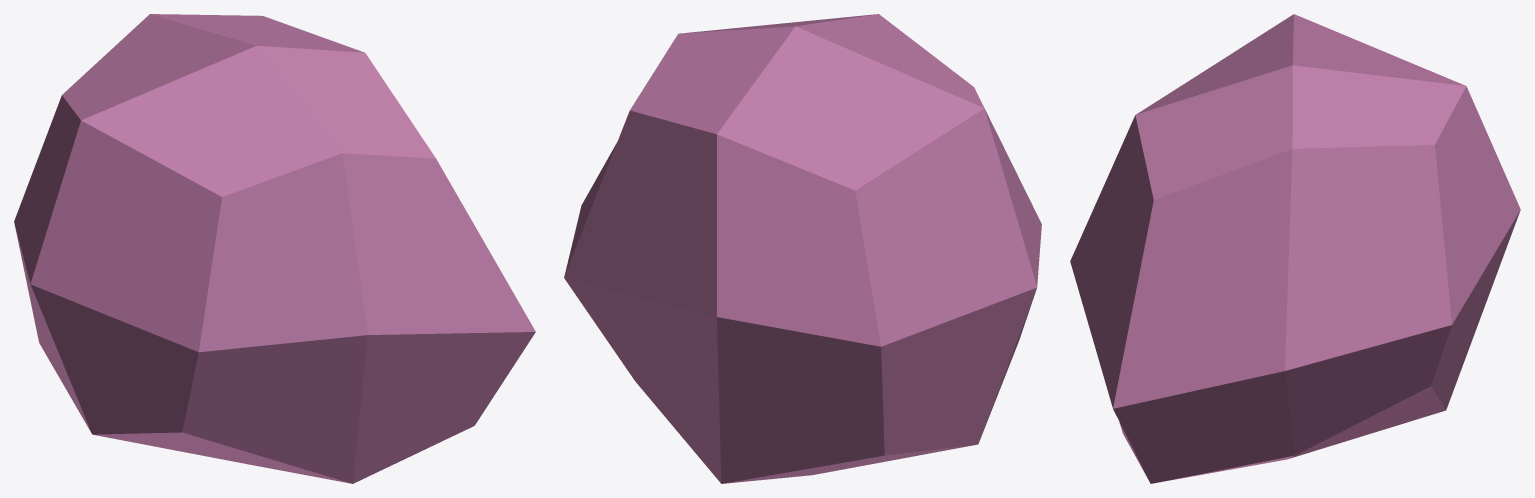
Rendered from tas_kucuk.fbx.
The picture shows the model from 3 angles, left to right: view 1: azimuth 30°, elevation 25°; view 2: azimuth 150°, elevation 25°; view 3: azimuth 270°, elevation 25°; orthographic projection. The views are drawn at different scales.
Visible parts, largest first — view 1: Cube.006; view 2: Cube.006; view 3: Cube.006.
Part boxes in pixels (x1,y1,x2,y2): Cube.006: (14, 14, 535, 483); Cube.006: (564, 14, 1041, 483); Cube.006: (1070, 14, 1520, 483).
Bounding box in the file's own units: 348 × 322 × 329.
